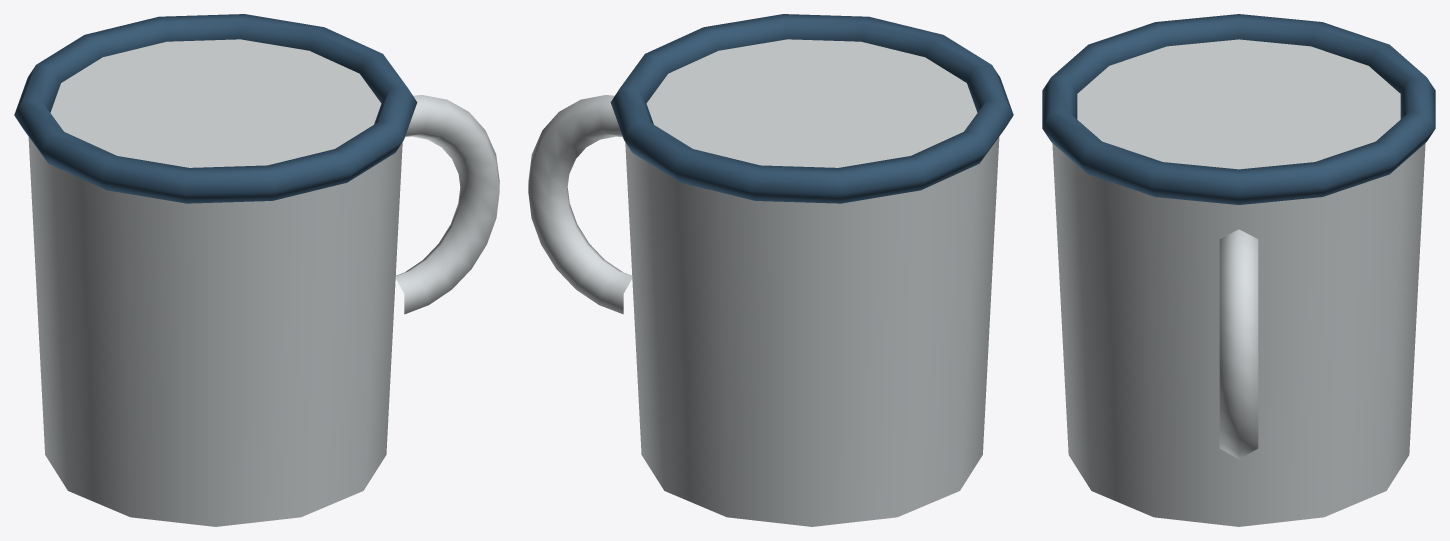
The model's file is mug.glb.
3 views of the same model, side by side, from view 1: azimuth 30°, elevation 25°; view 2: azimuth 150°, elevation 25°; view 3: azimuth 270°, elevation 25° (orthographic).
Parts seen in each view (by area): view 1: Mug_Mesh00, Mug_Mesh01, Mug_Mesh02; view 2: Mug_Mesh00, Mug_Mesh01, Mug_Mesh02; view 3: Mug_Mesh00, Mug_Mesh01, Mug_Mesh02.
Boxes of the visible parts, <box> form: Mug_Mesh00: <box>28,39,402,526</box>; Mug_Mesh01: <box>14,14,417,203</box>; Mug_Mesh02: <box>395,95,499,314</box>; Mug_Mesh00: <box>625,39,999,526</box>; Mug_Mesh01: <box>610,14,1013,203</box>; Mug_Mesh02: <box>528,95,632,314</box>; Mug_Mesh00: <box>1052,39,1425,526</box>; Mug_Mesh01: <box>1042,14,1435,204</box>; Mug_Mesh02: <box>1219,229,1258,459</box>.
Bounding box in the file's own units: 0.118 × 0.0885 × 0.0877.
